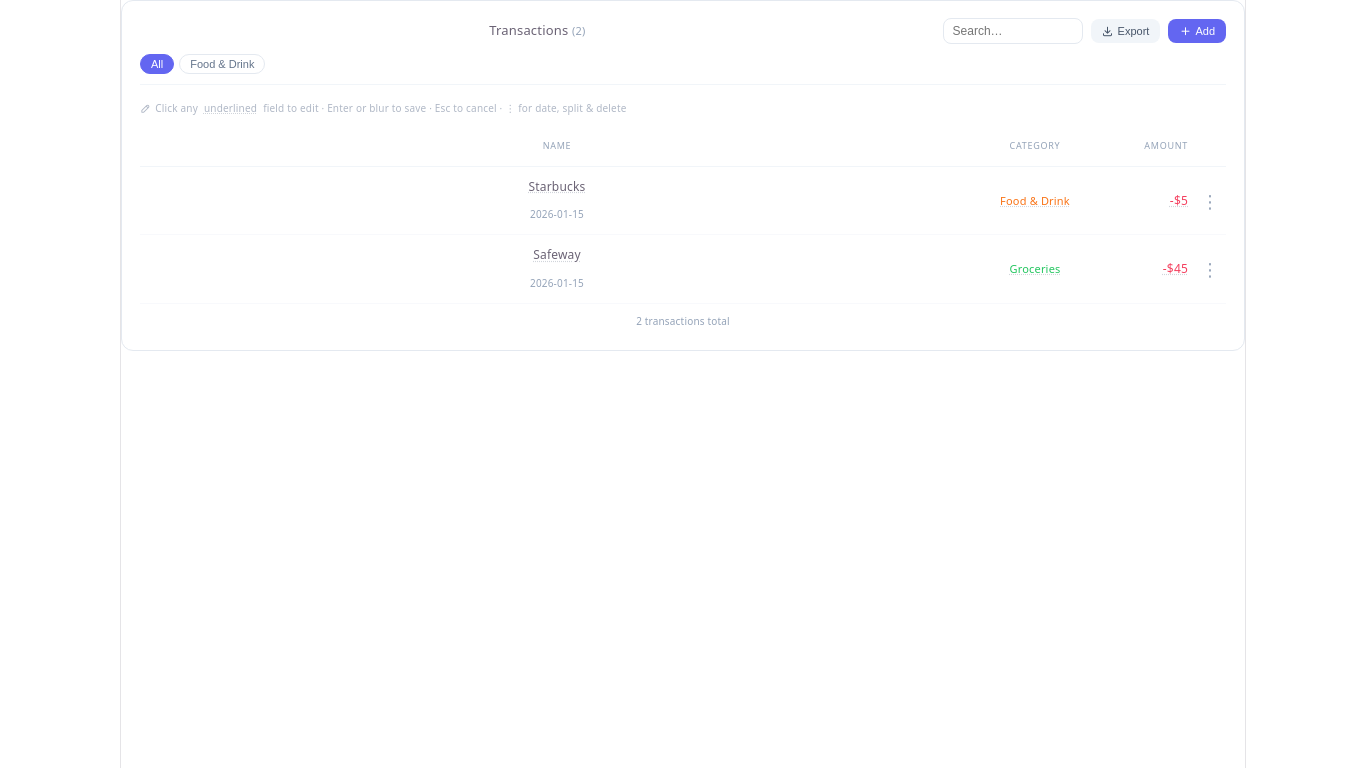
Test: TransactionsView — with transactions › inline edit: clicking name shows input
Click the text "Starbucks" at (557, 187), box [528,178,586,195]
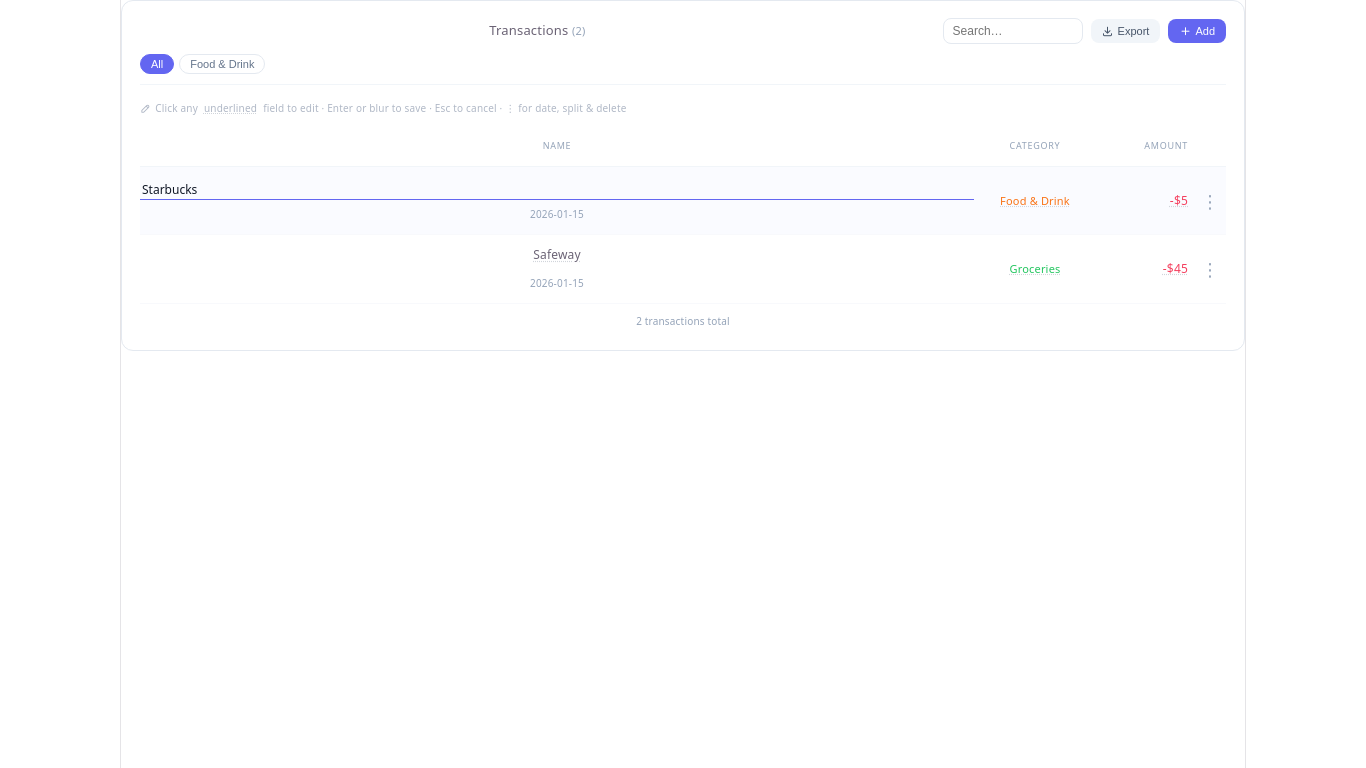
Expected: the field showing "Starbucks" is shown, [140,180,974,200]
